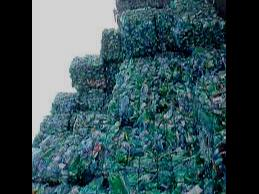Plastic: (32, 0, 224, 193)
